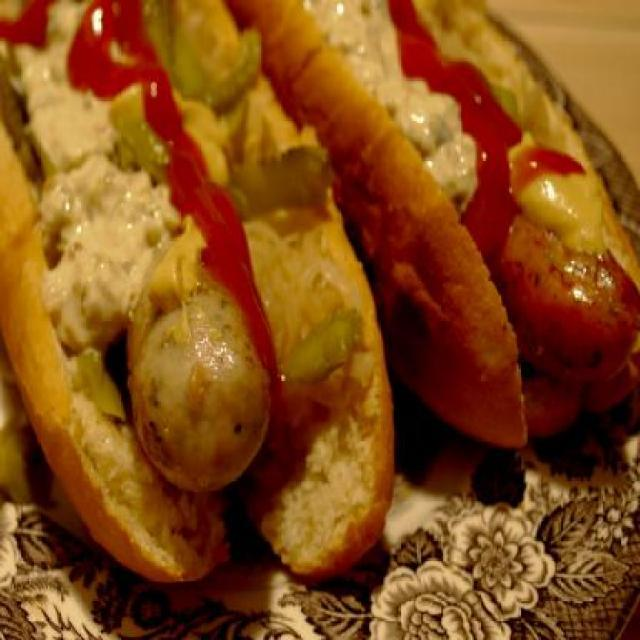Hot dog: (0, 0, 394, 582), (234, 0, 638, 457)
